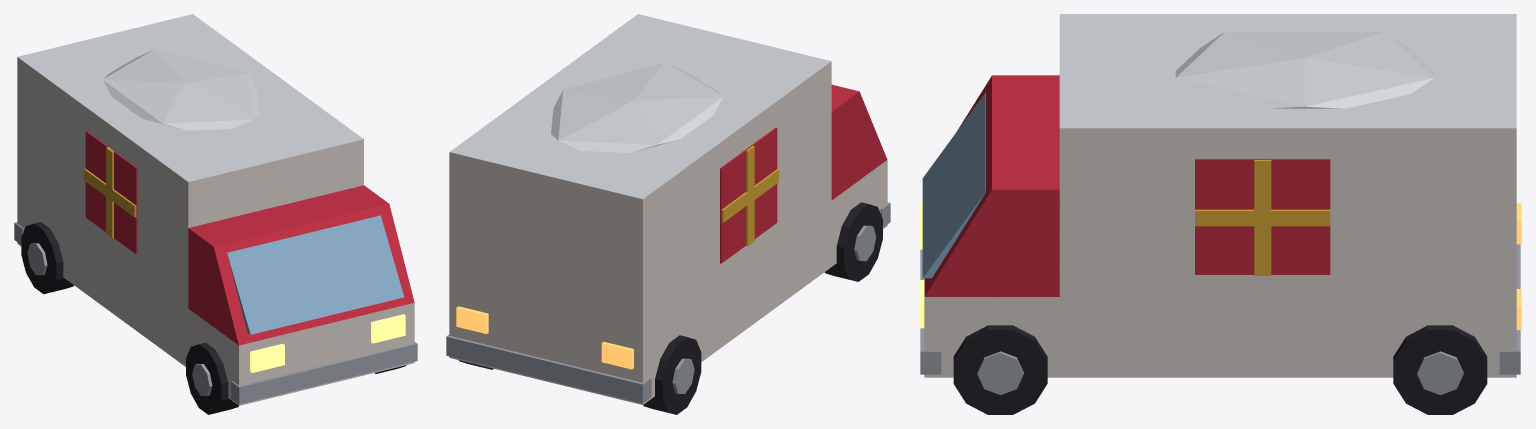
Rendered from DeliveryVan.glb.
The picture shows the model from 3 angles, left to right: view 1: azimuth 30°, elevation 25°; view 2: azimuth 150°, elevation 25°; view 3: azimuth 270°, elevation 25°; orthographic projection. The views are drawn at different scales.
Parts seen in each view (by area): view 1: DeliveryVan_Body, DeliveryVan_Glow; view 2: DeliveryVan_Body, DeliveryVan_Glow; view 3: DeliveryVan_Body, DeliveryVan_Glow.
Boxes of the visible parts, x1=… form: DeliveryVan_Body: x1=14, y1=14, x2=417, y2=414; DeliveryVan_Glow: x1=250, y1=314, x2=405, y2=372; DeliveryVan_Body: x1=446, y1=14, x2=890, y2=414; DeliveryVan_Glow: x1=456, y1=306, x2=633, y2=369; DeliveryVan_Body: x1=920, y1=14, x2=1520, y2=414; DeliveryVan_Glow: x1=919, y1=201, x2=1521, y2=329.
Bounding box in the file's own units: 7.1 × 7.71 × 14.24.
